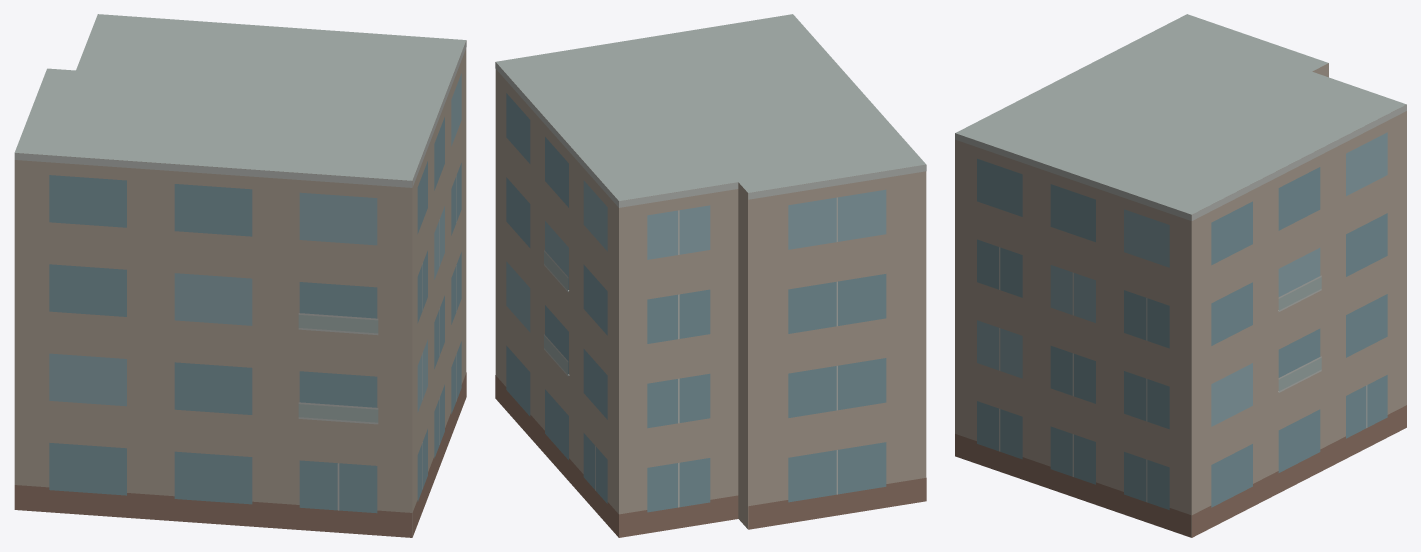
Rendered from survey-upis-32801257.glb.
3 views of the same model, side by side, from view 1: azimuth 30°, elevation 25°; view 2: azimuth 150°, elevation 25°; view 3: azimuth 270°, elevation 25° (orthographic). The views are drawn at different scales.
Parts seen in each view (by area): view 1: survey-upis-32801257.tmp; view 2: survey-upis-32801257.tmp; view 3: survey-upis-32801257.tmp.
Part boxes in pixels (<box>): survey-upis-32801257.tmp: <box>14,14,466,537</box>; survey-upis-32801257.tmp: <box>495,14,926,537</box>; survey-upis-32801257.tmp: <box>955,14,1406,537</box>.
Bounding box in the file's own units: 16.26 × 12.2 × 15.46.
